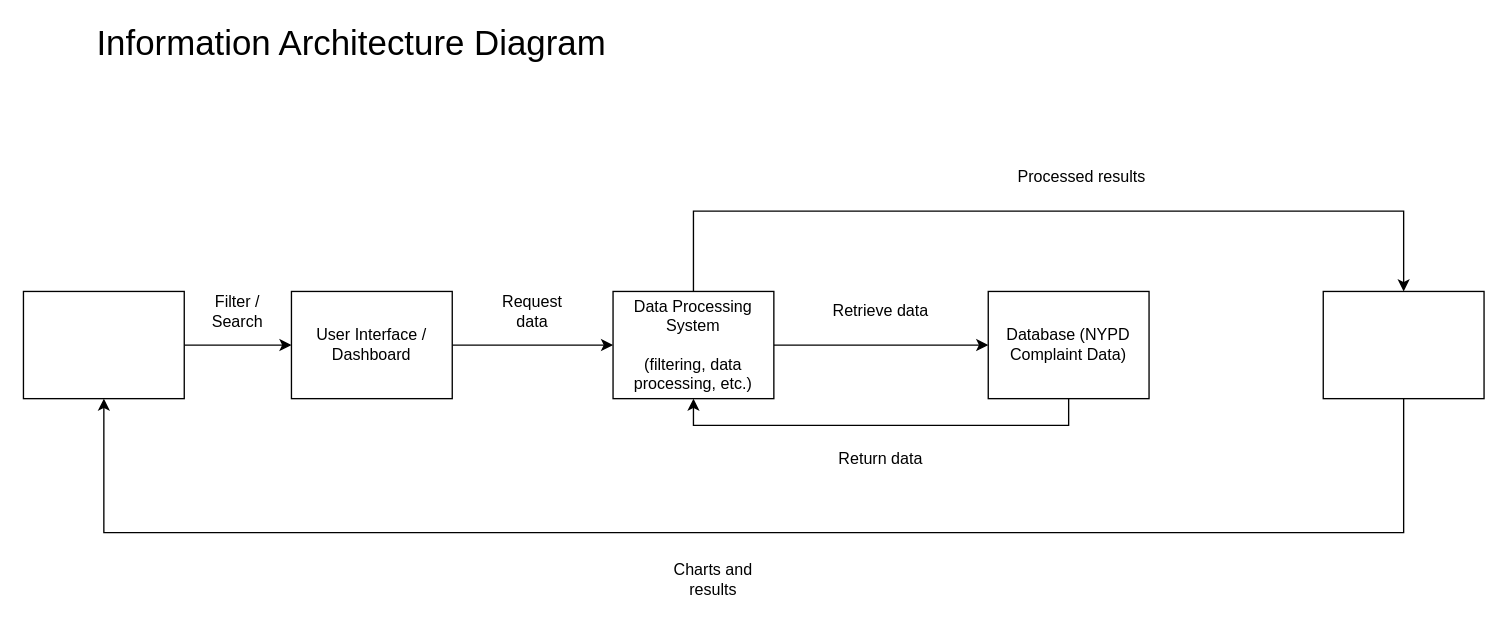
This 1508x623 diagram has some shape labels left out. Here are the shapes that lost their labels. From the top down, the centre of each, then its label:
At [103,344]: "User".
At [1403,344]: "Visualization / Reports".
